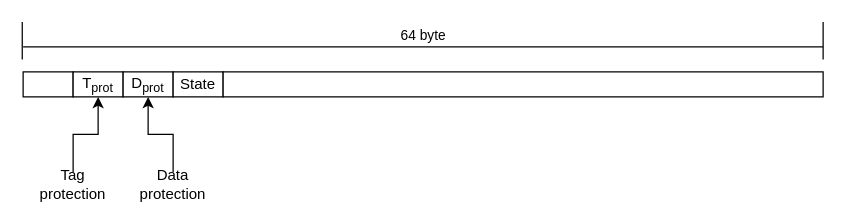
Some shapes in this 846 by 224 pixel diagram are drawn without their labels. The shapes that lost their labels are listed below. From the top down, each one's centre as x and y in pixels, then its label:
the point at 47,84: TAG
the point at 522,84: DATA
